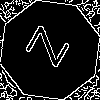Z: (25, 25, 80, 74)
